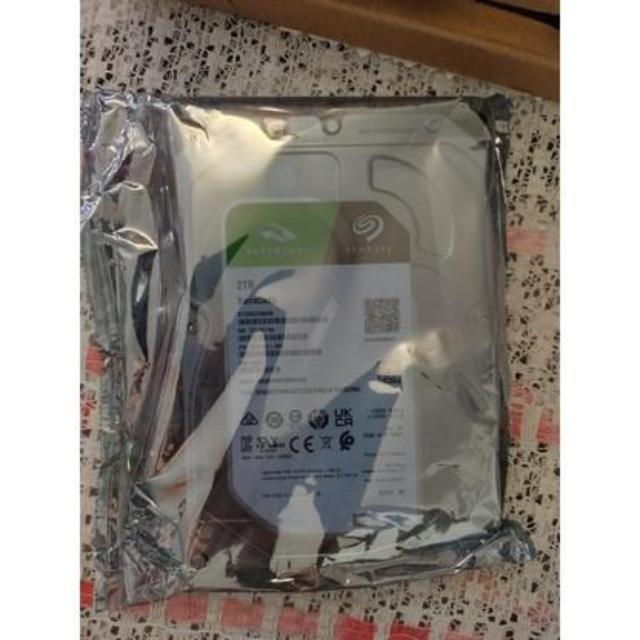DISK: (167, 112, 496, 570)
